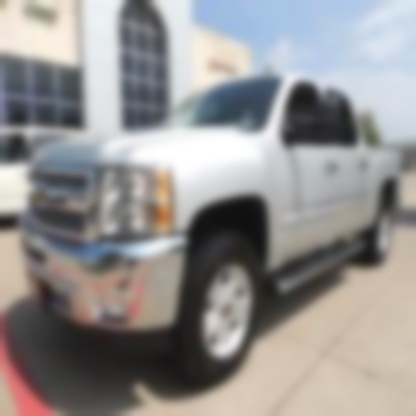Vehicle: (18, 73, 411, 397)
